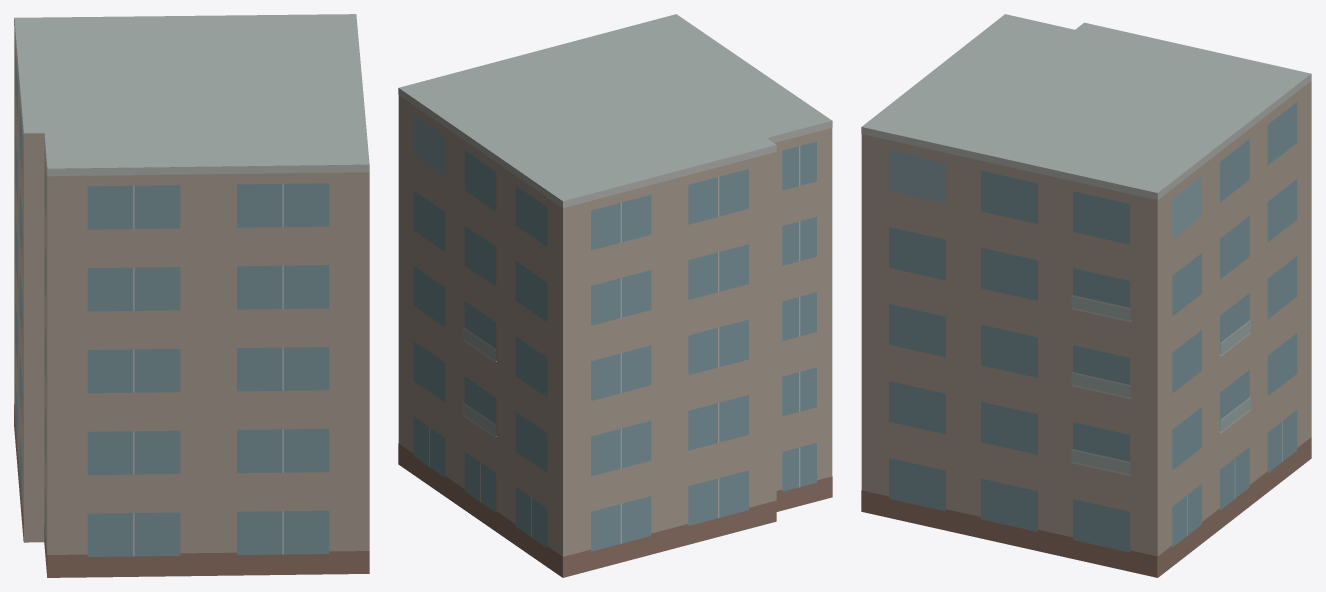
File: survey-upis-32492501.glb
3 views of the same model, side by side, from view 1: azimuth 30°, elevation 25°; view 2: azimuth 150°, elevation 25°; view 3: azimuth 270°, elevation 25° (orthographic). The views are drawn at different scales.
Visible parts, largest first — view 1: survey-upis-32492501.tmp; view 2: survey-upis-32492501.tmp; view 3: survey-upis-32492501.tmp.
Part boxes in pixels (x1,y1,x2,y2): survey-upis-32492501.tmp: [14, 14, 369, 577]; survey-upis-32492501.tmp: [398, 14, 832, 577]; survey-upis-32492501.tmp: [861, 14, 1311, 577].
Size of the model in its own units: 13.18 by 13.2 by 14.
